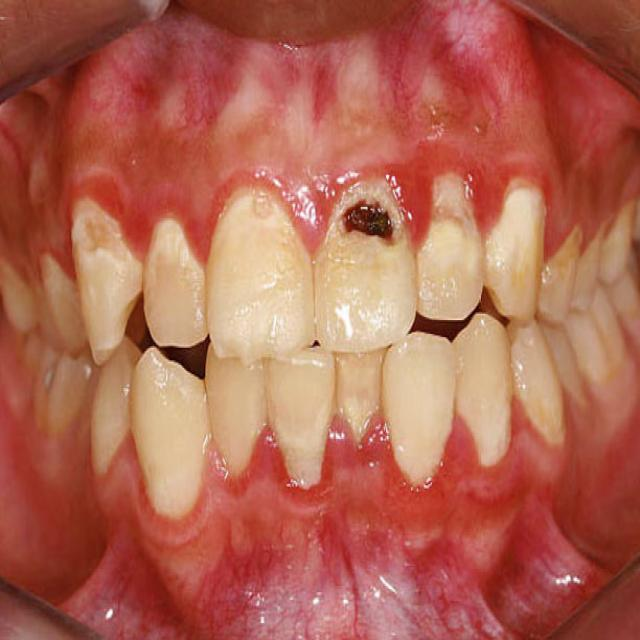caries: (335, 191, 399, 263)
